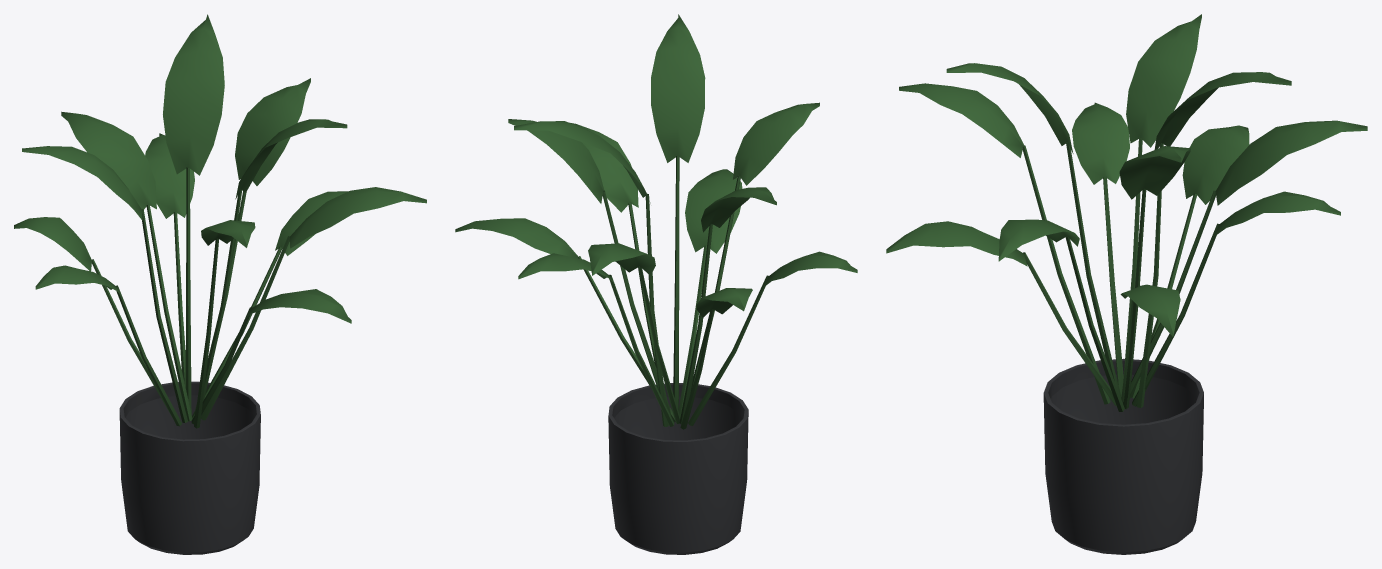
File: decor_b_plant_floor_c.gltf
3 renders of one model, left to right at view 1: azimuth 30°, elevation 25°; view 2: azimuth 150°, elevation 25°; view 3: azimuth 270°, elevation 25°, orthographic. The views are drawn at different scales.
Visible parts, largest first — view 1: DecorBPlantFloorC_Leaf_NoCollide, DecorBPlantFloorC_Graphite; view 2: DecorBPlantFloorC_Leaf_NoCollide, DecorBPlantFloorC_Graphite; view 3: DecorBPlantFloorC_Leaf_NoCollide, DecorBPlantFloorC_Graphite.
Boxes of the visible parts, left/top/right/bottom form: DecorBPlantFloorC_Leaf_NoCollide: left=14, top=14, right=426, bottom=428; DecorBPlantFloorC_Graphite: left=119, top=381, right=260, bottom=554; DecorBPlantFloorC_Leaf_NoCollide: left=455, top=14, right=857, bottom=429; DecorBPlantFloorC_Graphite: left=608, top=383, right=748, bottom=554; DecorBPlantFloorC_Leaf_NoCollide: left=886, top=14, right=1367, bottom=411; DecorBPlantFloorC_Graphite: left=1043, top=358, right=1203, bottom=554.
Size of the model in its own units: 1.63 by 1.86 by 1.62.
